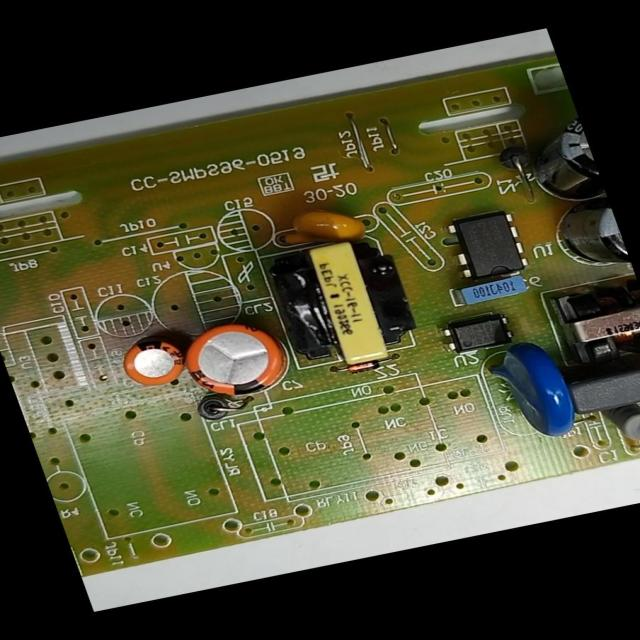Cap1: (167, 311, 302, 409)
Cap2: (102, 327, 202, 397)
Cap3: (538, 192, 634, 286)
Cap4: (505, 110, 607, 212)
MOSFET: (433, 202, 541, 289)
Mov: (470, 328, 597, 453)
Resistor: (591, 391, 639, 456)
Transformer: (247, 223, 435, 383), (526, 268, 639, 383)
